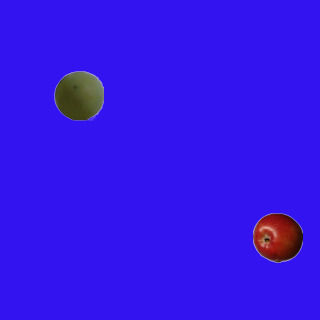Apple Braeburn: (252, 212, 302, 262)
Grape White 4: (53, 70, 103, 120)
